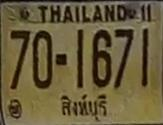0: (32, 30, 52, 88)
1: (76, 28, 84, 88), (141, 27, 148, 88)
6: (91, 28, 111, 87)
7: (8, 28, 30, 90), (112, 28, 133, 89)
SBR: (59, 92, 110, 123)
